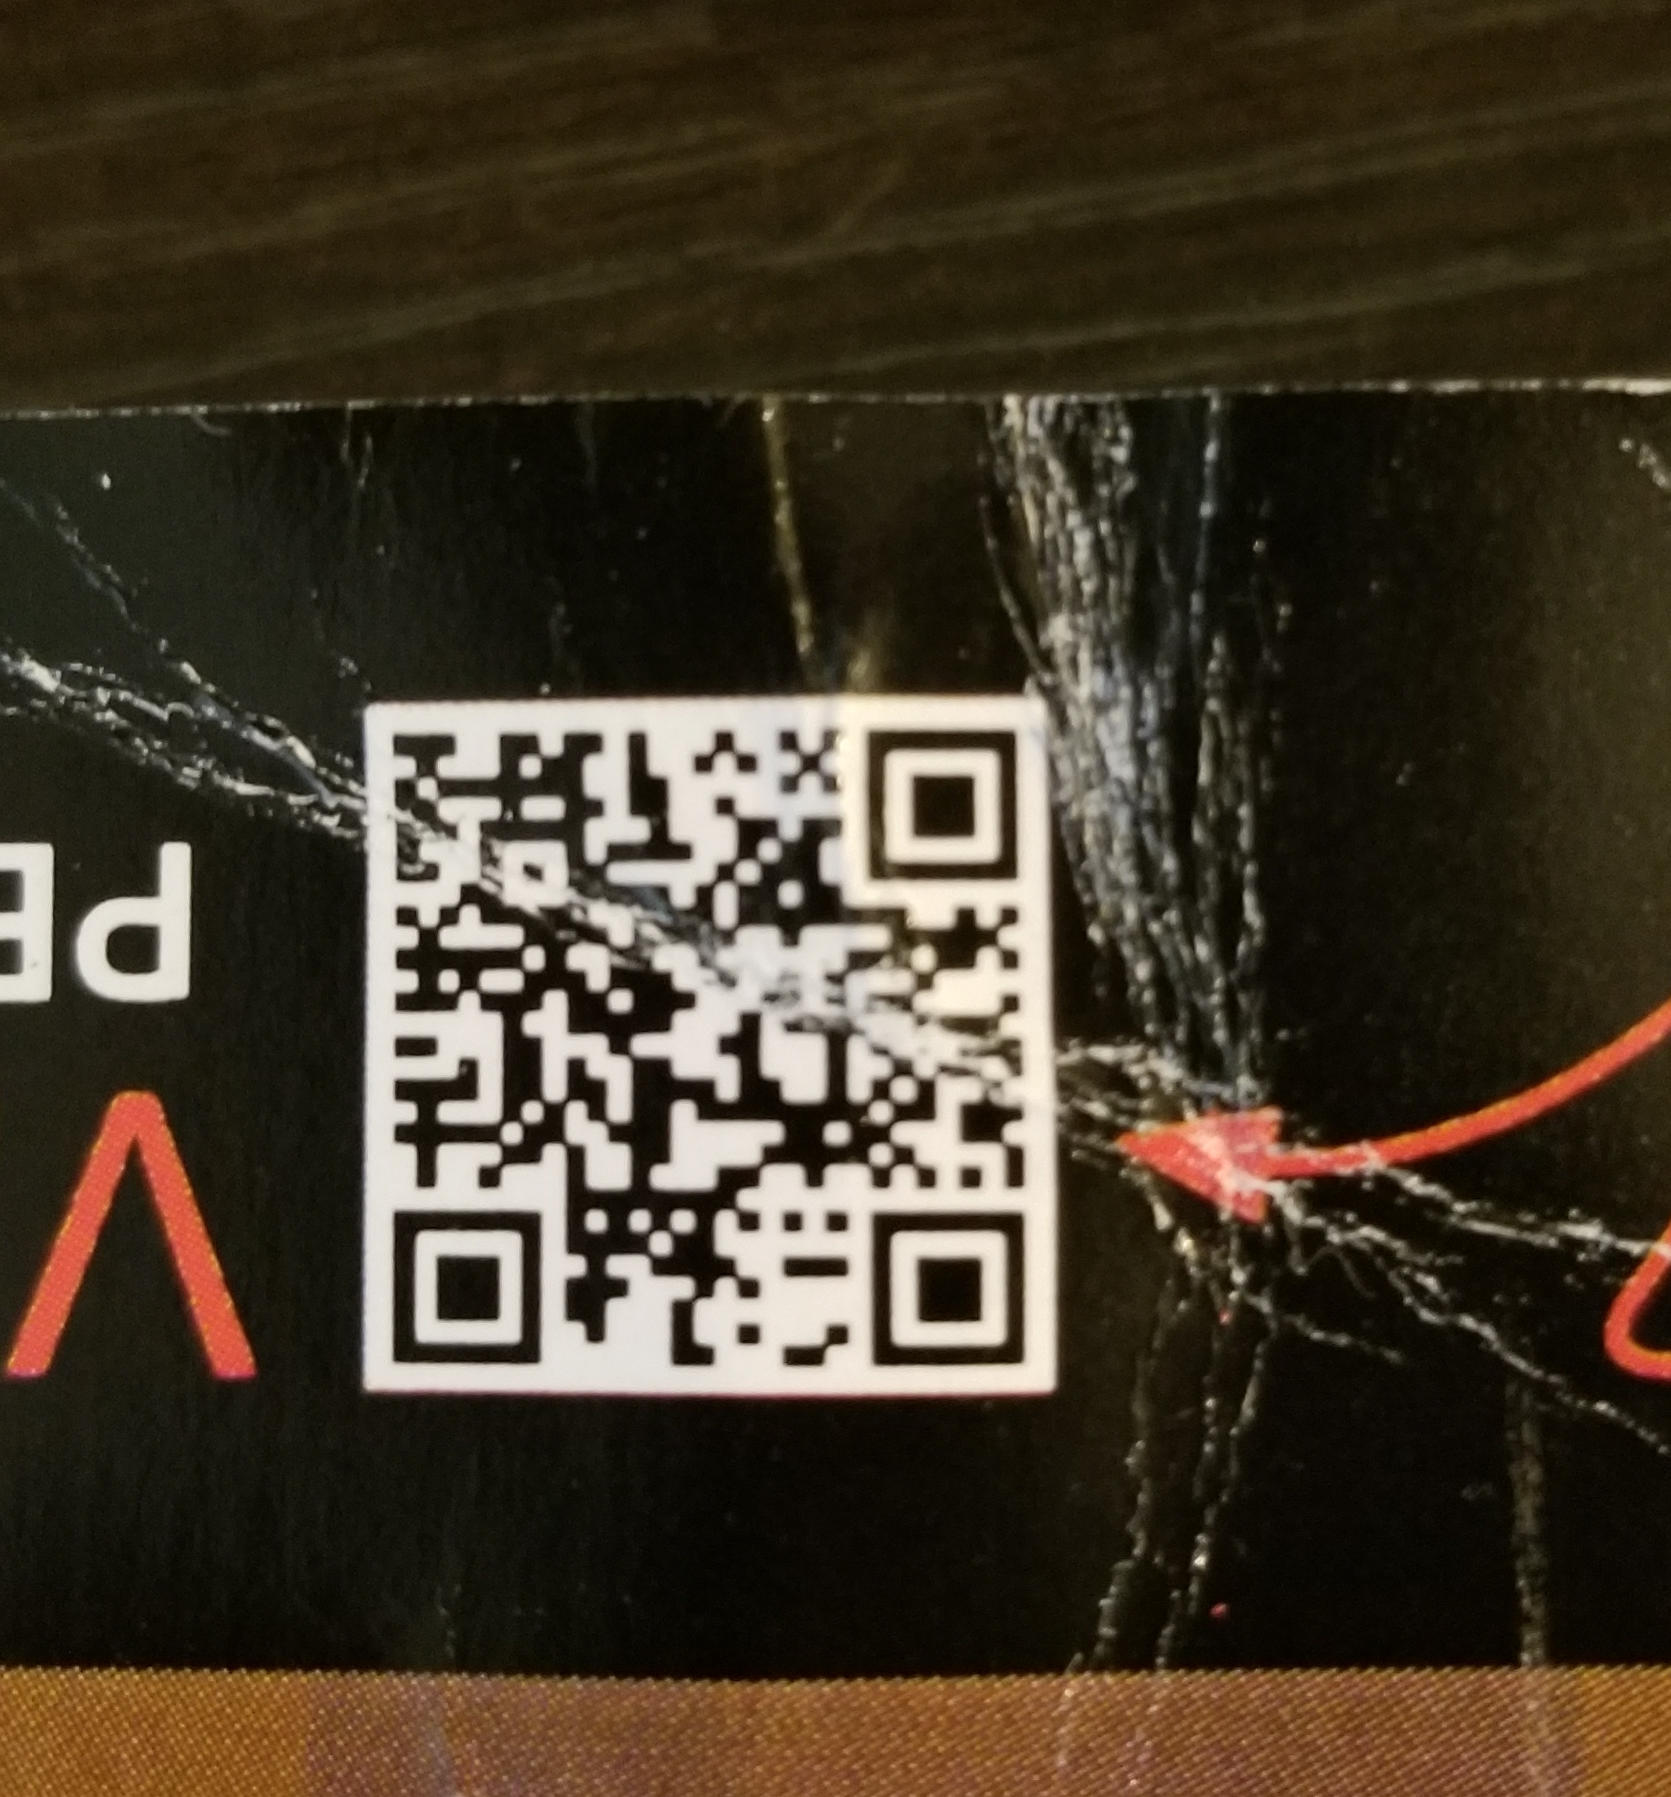QR_CODE: (360, 677, 1051, 1385)
